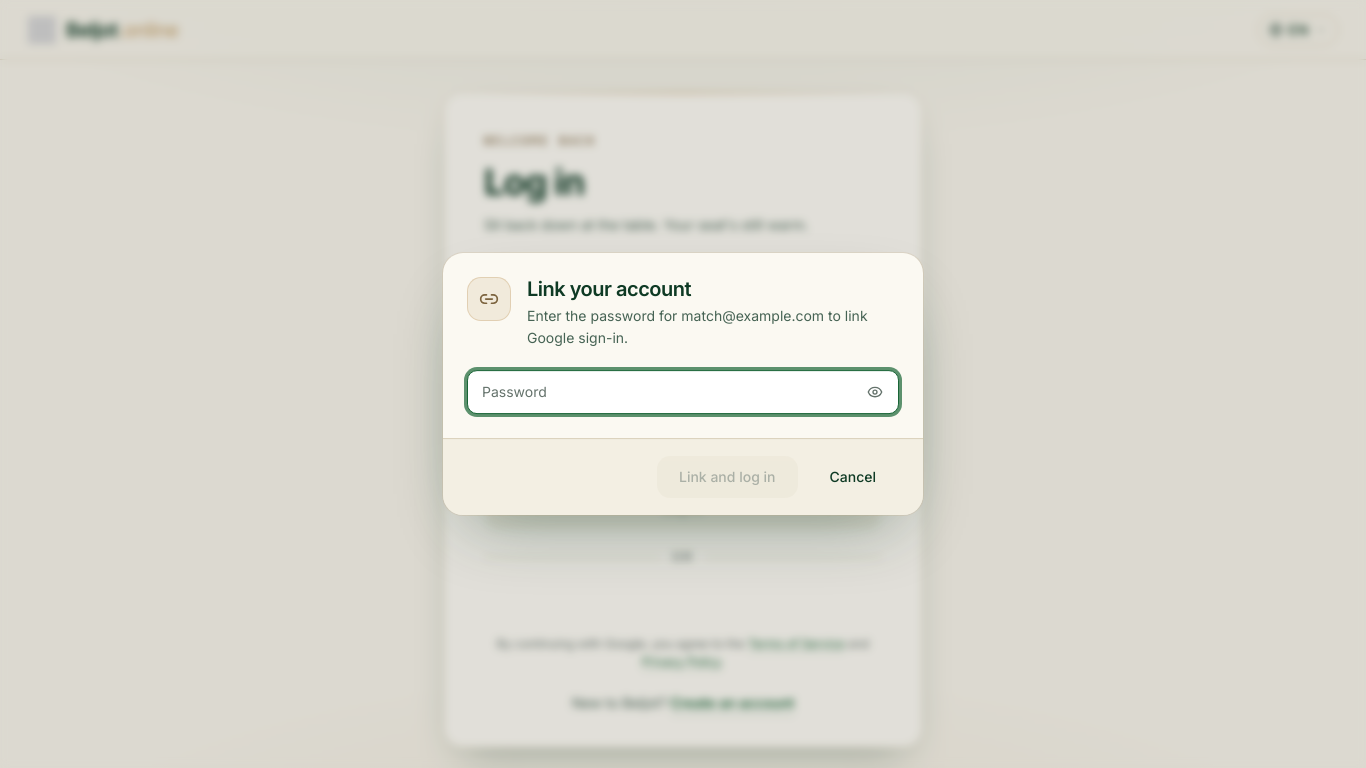
Test: LoginPage › Google SSO › closes the dialog and toasts when the held Google credential expires during linking
Expected: the dialog with test id "link-account-dialog" is shown, [443, 253, 923, 515]
Type "correctpassword" into the password field with test id "link-account-password-input".
click(683, 392); type("correctpassword")  # box [467, 370, 899, 414]
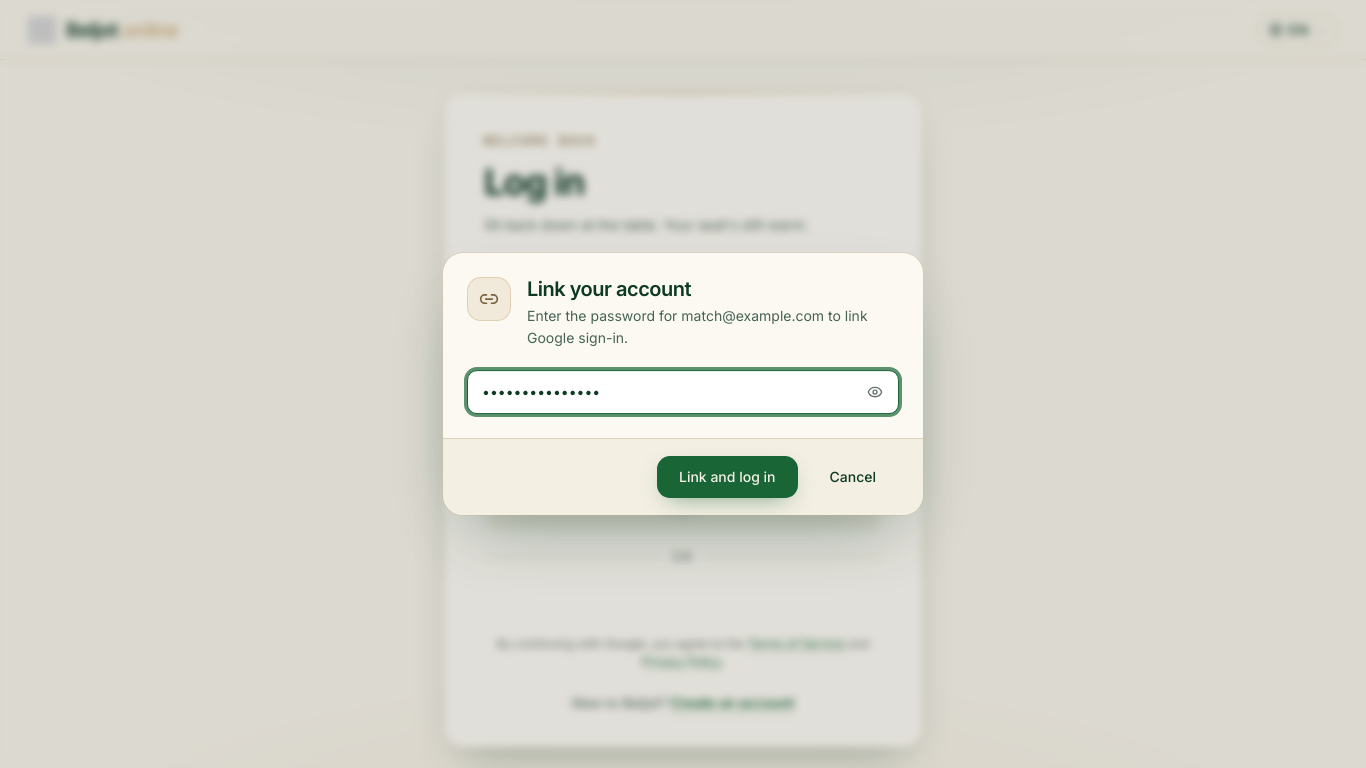
Click the button with test id "link-account-submit".
click(727, 477)  # box [656, 455, 798, 499]
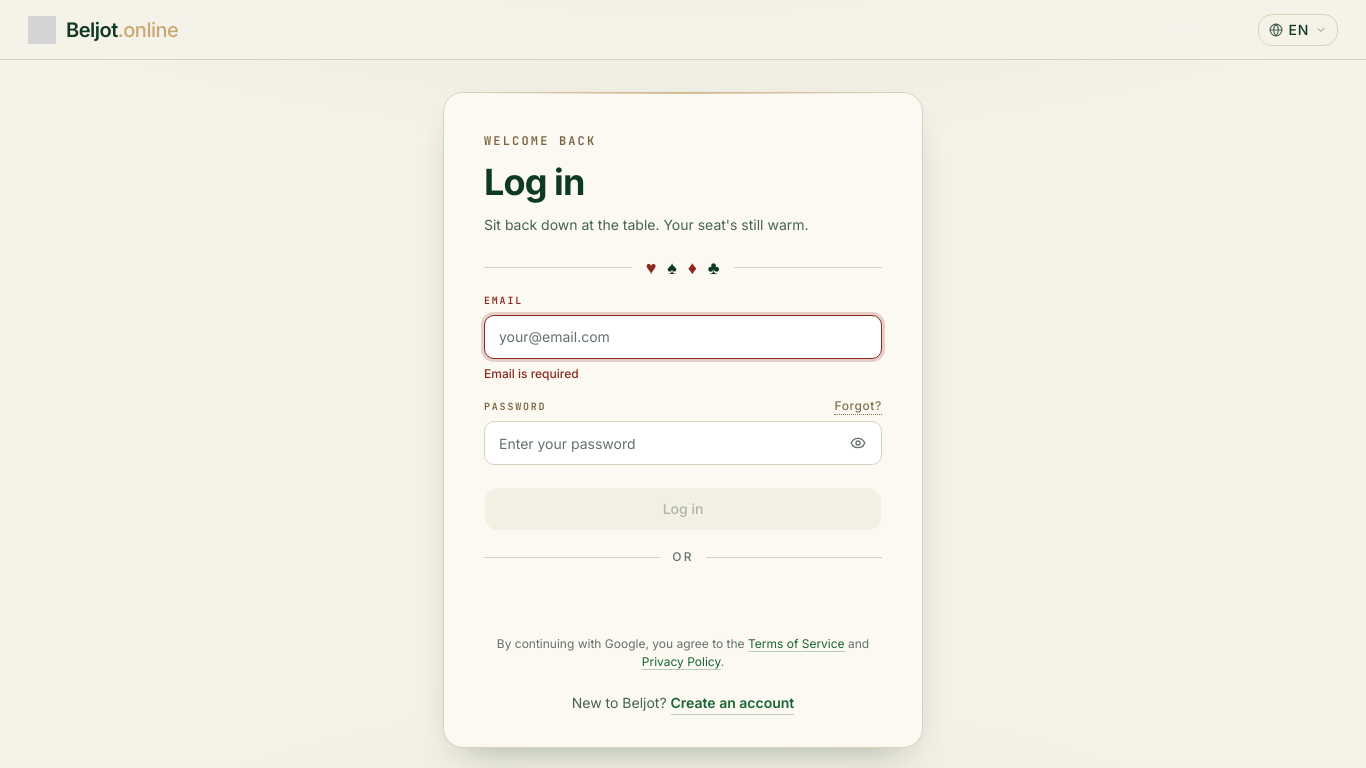
Result: the dialog with test id "link-account-dialog" is gone
